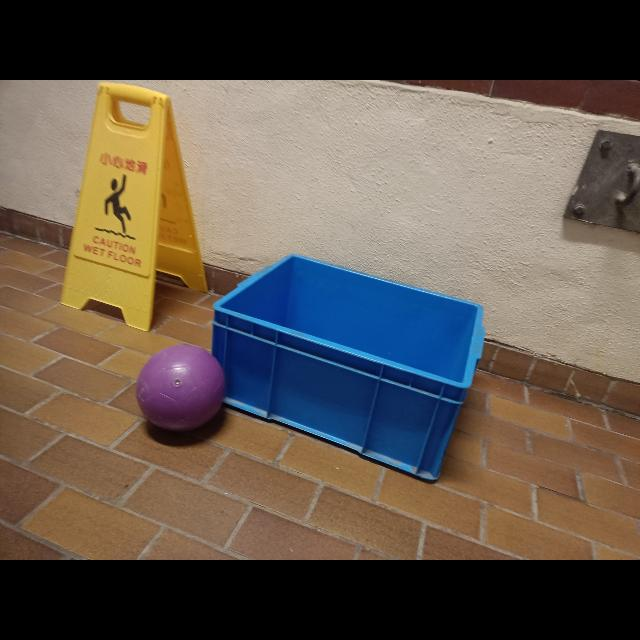P: (136, 345, 224, 433)
